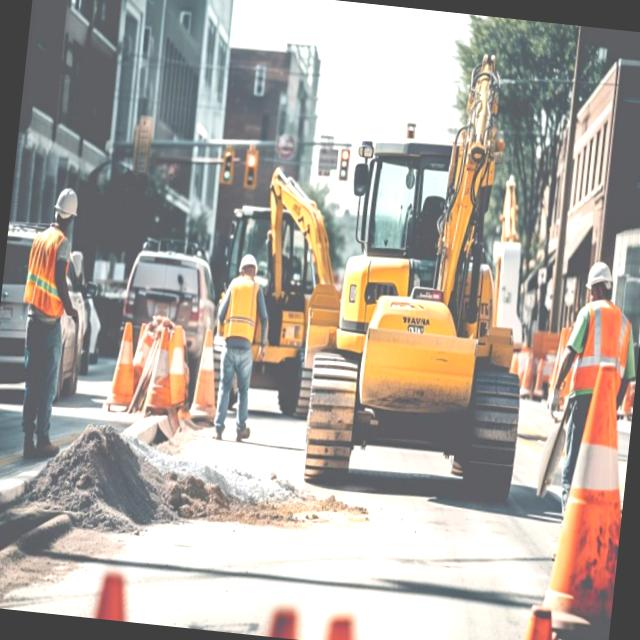helmet: (579, 259, 623, 296), (48, 183, 82, 221), (238, 252, 262, 278)
vest: (560, 294, 638, 408), (28, 226, 78, 320), (218, 276, 260, 343)
